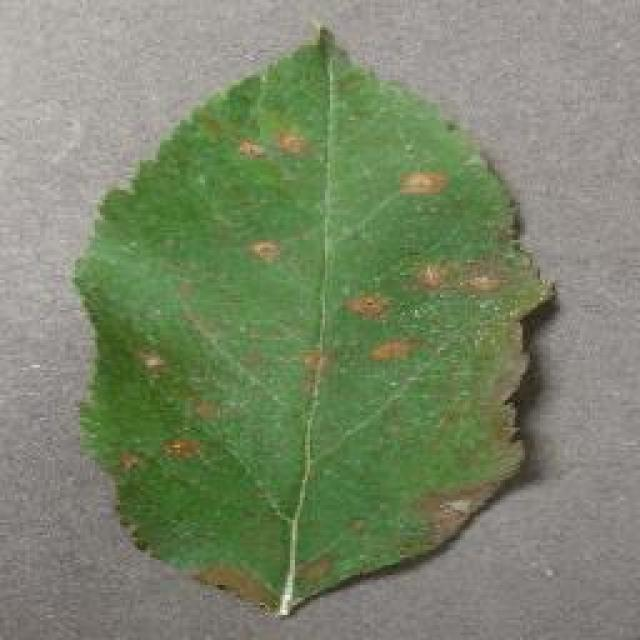apple cedar apple rust: (70, 18, 558, 618)
